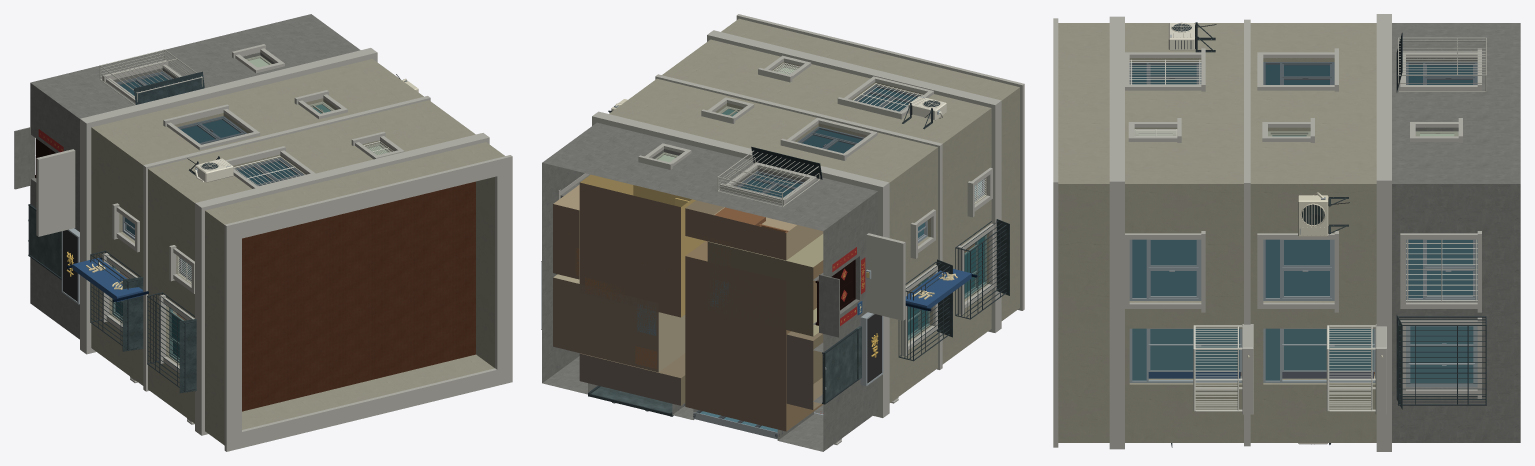
Rendered from chinese-building.glb.
3 views of the same model, side by side, from view 1: azimuth 30°, elevation 25°; view 2: azimuth 150°, elevation 25°; view 3: azimuth 270°, elevation 25° (orthographic). The views are drawn at different scales.
Visible parts, largest first — view 1: M_CN_WallStucco, M_CN_Band, M_CN_RoofTile, M_CN_Stone, M_CN_Shutter, M_CN_SteelBlack, M_CN_Glass, M_CN_SignBoard, M_CN_Aluminum, M_CN_Rust, M_CN_PaintWhite, M_CN_Plastic; view 2: M_CN_IntFloor, M_CN_WallStucco, M_CN_Band, M_CN_Stone, M_CN_Shutter, M_CN_SteelBlack, M_CN_IntWall, M_CN_Glass, M_CN_Aluminum, M_CN_IntShop, M_CN_SignBoard, M_CN_IntLit (+7 smaller); view 3: M_CN_WallStucco, M_CN_Stone, M_CN_Band, M_CN_Glass, M_CN_Aluminum, M_CN_PaintWhite, M_CN_SteelBlack, M_CN_Rust, M_CN_Plastic, M_CN_Fabric, M_CN_Shutter.
Part boxes in pixels (left/top/right/bottom): M_CN_WallStucco: left=91, top=59, right=504, bottom=445; M_CN_Band: left=36, top=44, right=512, bottom=451; M_CN_RoofTile: left=242, top=181, right=475, bottom=411; M_CN_Stone: left=14, top=14, right=360, bottom=339; M_CN_Shutter: left=30, top=71, right=204, bottom=392; M_CN_SteelBlack: left=28, top=138, right=219, bottom=391; M_CN_Glass: left=116, top=75, right=330, bottom=357; M_CN_SignBoard: left=63, top=230, right=143, bottom=301; M_CN_Aluminum: left=112, top=55, right=390, bottom=363; M_CN_Rust: left=99, top=49, right=202, bottom=105; M_CN_PaintWhite: left=177, top=141, right=393, bottom=283; M_CN_Plastic: left=194, top=78, right=418, bottom=182; M_CN_IntFloor: left=553, top=182, right=813, bottom=431; M_CN_WallStucco: left=609, top=18, right=1019, bottom=402; M_CN_Band: left=558, top=14, right=1024, bottom=444; M_CN_Stone: left=542, top=122, right=877, bottom=451; M_CN_Shutter: left=588, top=146, right=1009, bottom=414; M_CN_SteelBlack: left=541, top=100, right=1006, bottom=416; M_CN_IntWall: left=553, top=185, right=974, bottom=371; M_CN_Glass: left=700, top=88, right=984, bottom=432; M_CN_Aluminum: left=579, top=65, right=986, bottom=437; M_CN_IntShop: left=580, top=241, right=823, bottom=431; M_CN_SignBoard: left=820, top=269, right=971, bottom=413; M_CN_IntLit: left=580, top=174, right=705, bottom=317; M_CN_WallStucco: left=1058, top=23, right=1376, bottom=442; M_CN_Stone: left=1392, top=23, right=1520, bottom=442; M_CN_Band: left=1053, top=14, right=1481, bottom=451; M_CN_Glass: left=1132, top=64, right=1473, bottom=382; M_CN_Aluminum: left=1129, top=62, right=1477, bottom=387; M_CN_PaintWhite: left=1129, top=59, right=1477, bottom=411; M_CN_SteelBlack: left=1172, top=22, right=1486, bottom=444; M_CN_Rust: left=1397, top=37, right=1486, bottom=91; M_CN_Plastic: left=1168, top=22, right=1328, bottom=444; M_CN_Fabric: left=1148, top=372, right=1373, bottom=378; M_CN_Shutter: left=1171, top=32, right=1402, bottom=447.
Bounding box in the file's own units: 10.39 × 7.83 × 9.8.
27 materials, 5 textured.
